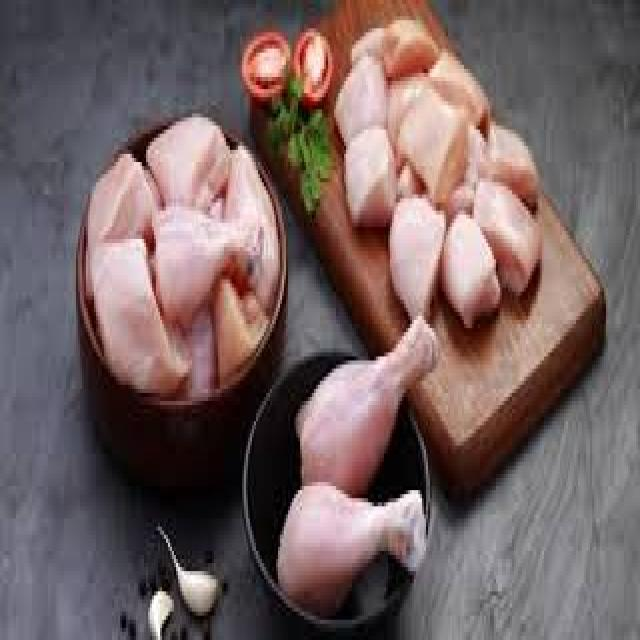Black pepper: (131, 560, 178, 596), (114, 599, 140, 640)
Chicken: (337, 9, 546, 342), (84, 103, 283, 402), (274, 316, 438, 618)
Coriander: (268, 58, 336, 230)
Garlic: (154, 508, 221, 623), (144, 579, 174, 640)
Tomato: (237, 25, 293, 113), (292, 22, 336, 111)
